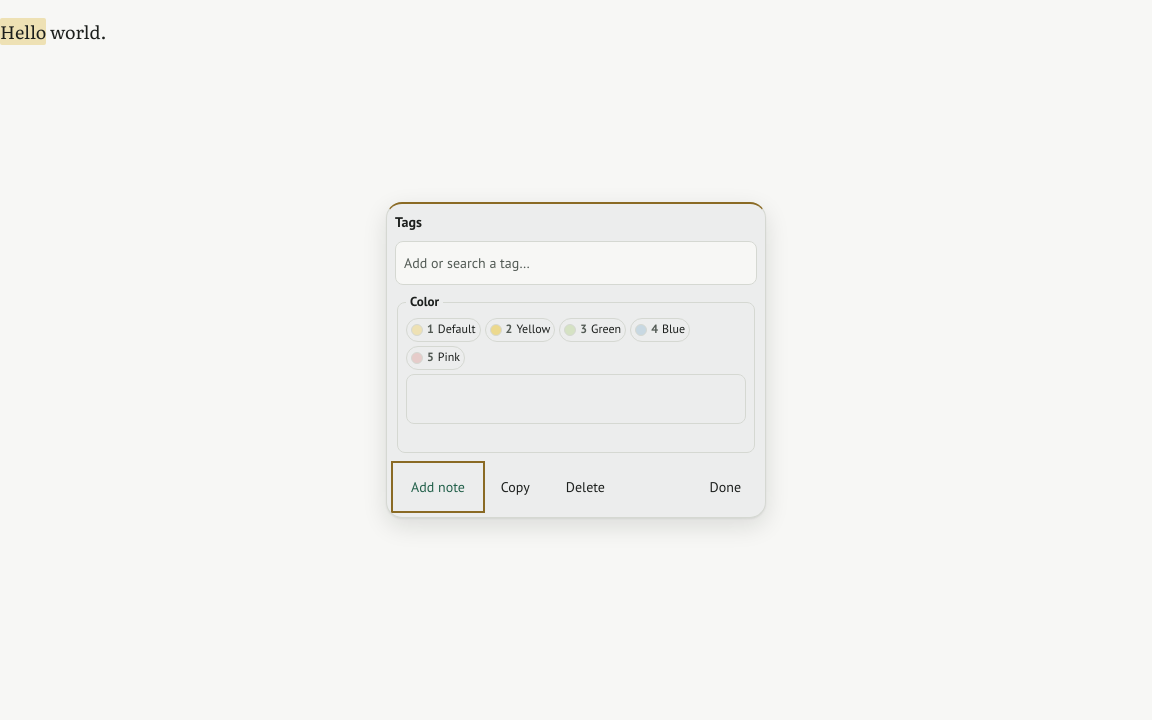
Unified annotation session › a failed delete retains the panel and offers another attempt
Click the button "Delete" at (585, 487), box [550,465,621,509]
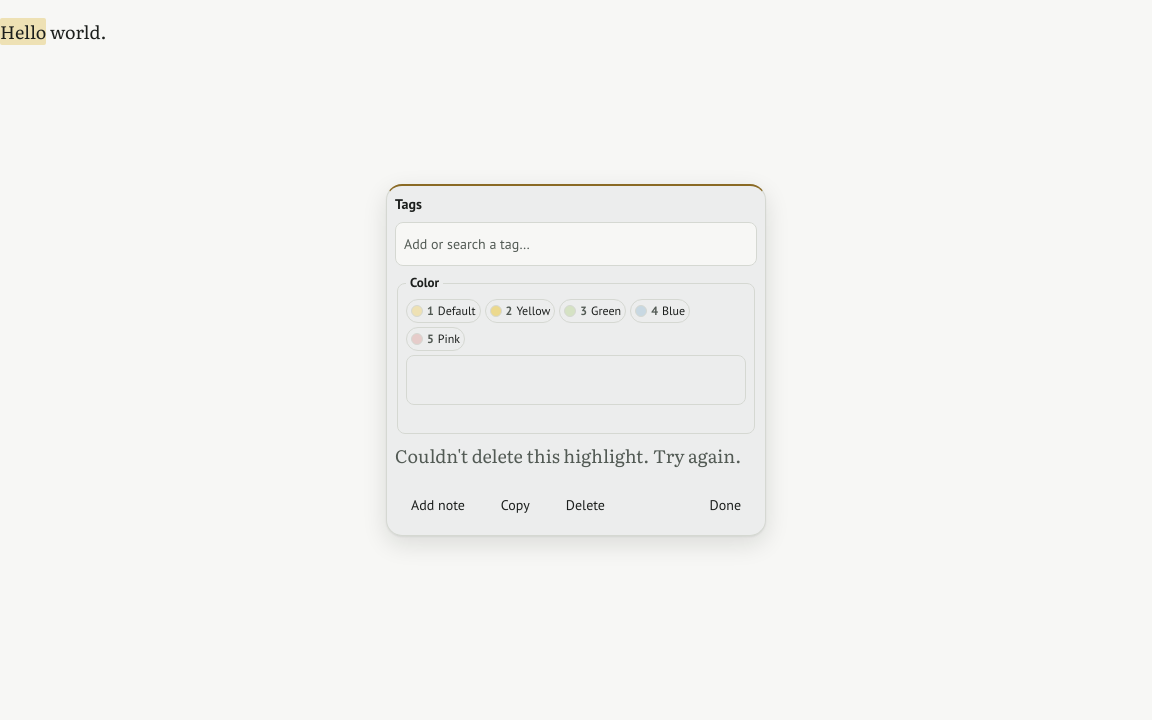
Now the text "Couldn't delete this highlight. Try again." is shown, box [395,442,757,471]
